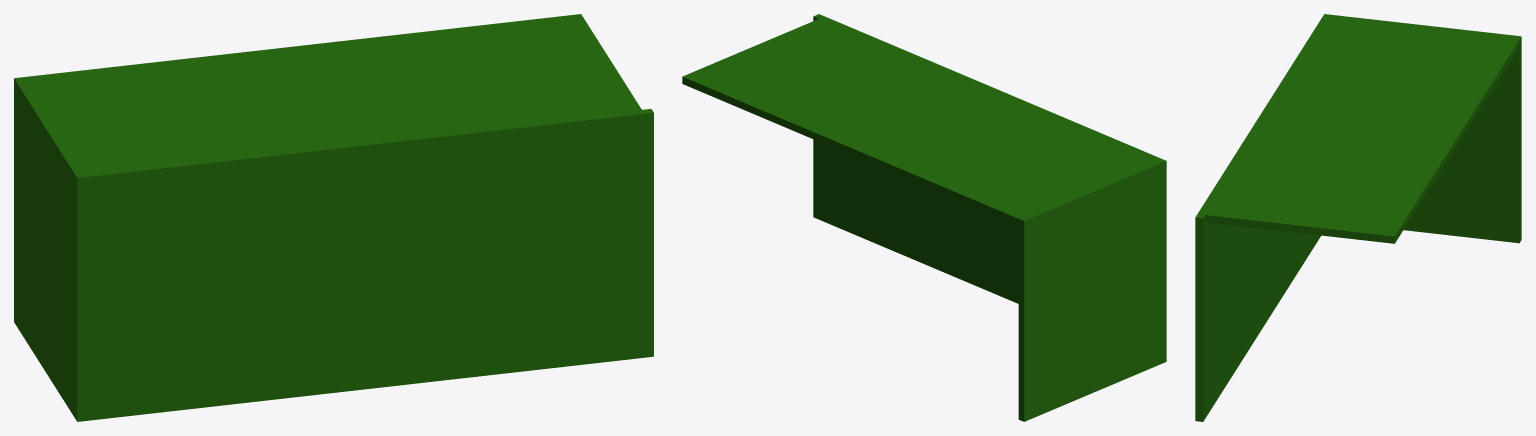
Rendered from pgc_n_bravodek.glb.
3 views of the same model, side by side, from view 1: azimuth 30°, elevation 25°; view 2: azimuth 150°, elevation 25°; view 3: azimuth 270°, elevation 25° (orthographic). The views are drawn at different scales.
Parts seen in each view (by area): view 1: bravo1; view 2: bravo1; view 3: bravo1.
Boxes of the visible parts, bbox=[...] form: bravo1: bbox=[14, 14, 653, 421]; bravo1: bbox=[682, 14, 1166, 421]; bravo1: bbox=[1195, 14, 1521, 421].
Bounding box in the file's own units: 6.44 × 2.75 × 3.99.
